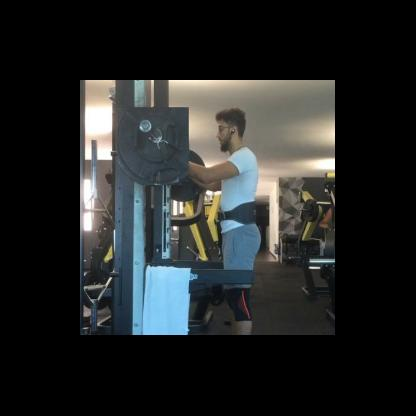barbell: (118, 108, 189, 186)
